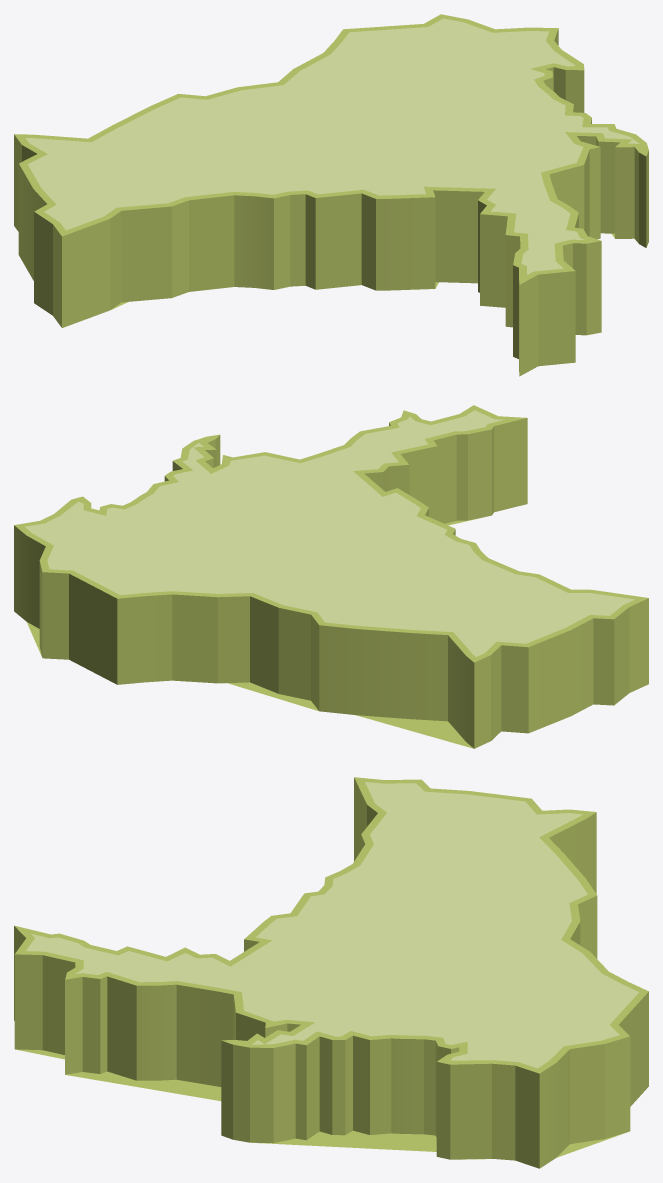
The model's file is Islands5.004.fbx.
3 renders of one model, top to bottom at view 1: azimuth 30°, elevation 25°; view 2: azimuth 150°, elevation 25°; view 3: azimuth 270°, elevation 25°, orthographic. The views are drawn at different scales.
Parts seen in each view (by area): view 1: Island5.004; view 2: Island5.004; view 3: Island5.004.
Boxes of the visible parts, x1=… form: Island5.004: x1=14, y1=14, x2=648, y2=376; Island5.004: x1=14, y1=405, x2=648, y2=748; Island5.004: x1=14, y1=777, x2=648, y2=1168.
Bounding box in the file's own units: 167 × 25 × 151.
